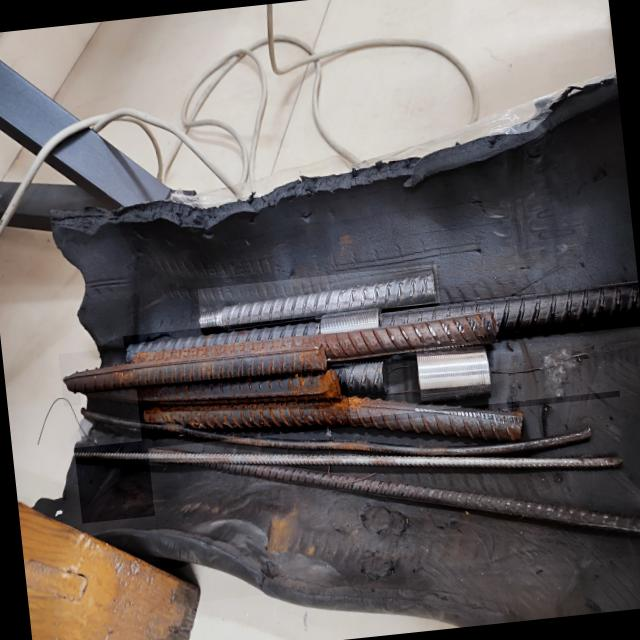Sleeve joint: (408, 342, 498, 406), (314, 306, 384, 342)
Welded link: (136, 365, 351, 448), (128, 329, 332, 394)
ribbed bar: (147, 393, 640, 604), (74, 390, 626, 523), (80, 348, 524, 485), (122, 282, 640, 380), (58, 308, 501, 406), (198, 264, 440, 333)
